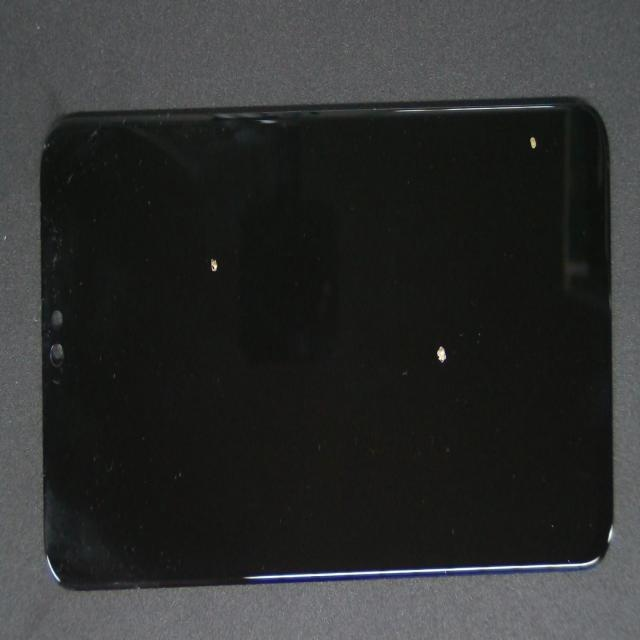stain: (221, 133, 640, 491), (261, 46, 640, 206), (111, 109, 309, 369)
